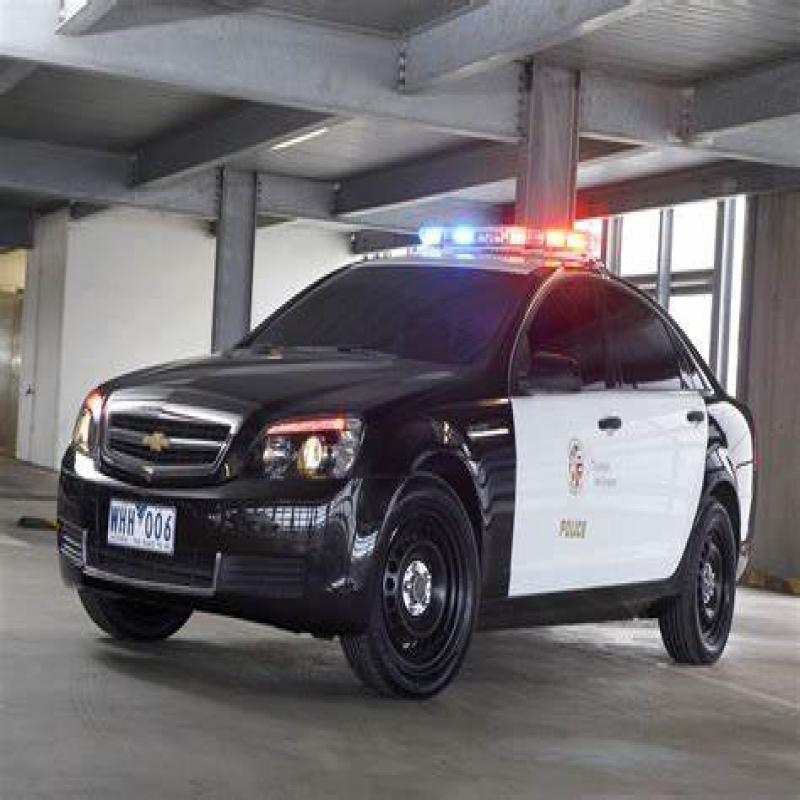AmbulanceSiren: (409, 210, 603, 268)
